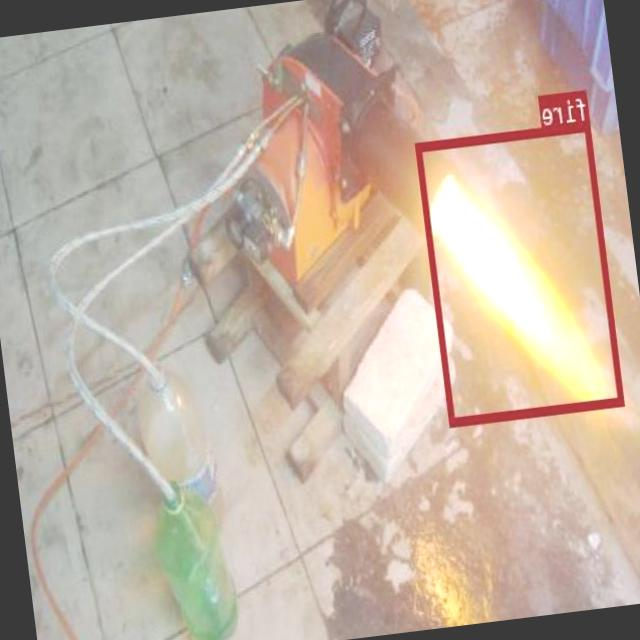fire: (416, 120, 625, 425)
